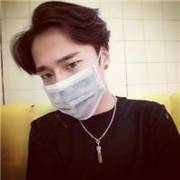face_mask: (39, 32, 101, 116)
